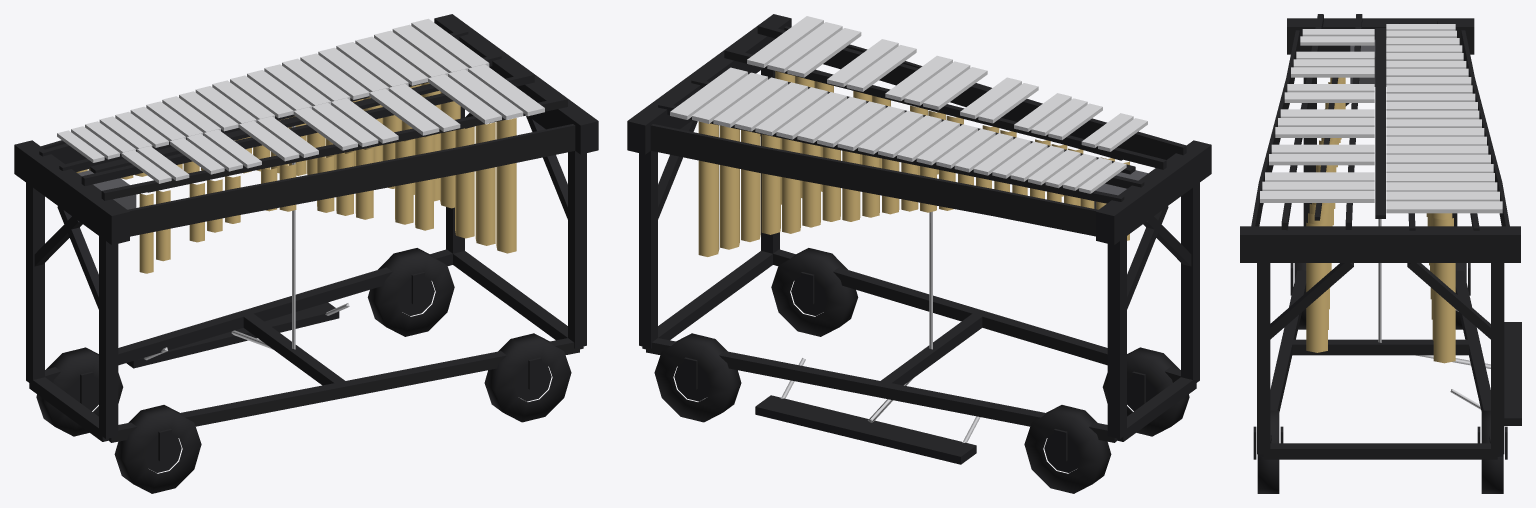
File: vibraphone-3.0-low.glb
3 renders of one model, left to right at view 1: azimuth 30°, elevation 25°; view 2: azimuth 150°, elevation 25°; view 3: azimuth 270°, elevation 25°, orthographic. The views are drawn at different scales.
Parts seen in each view (by area): view 1: frame, bars-silver, resonators-gold, artwork, metal; view 2: frame, bars-silver, resonators-gold, metal; view 3: frame, bars-silver, resonators-gold, metal, panel.
Part boxes in pixels (box(x1,y1,x2,y2)): frame: box(14, 14, 598, 493); bars-silver: box(57, 18, 544, 183); resonators-gold: box(76, 82, 516, 273); artwork: box(130, 125, 575, 236); metal: box(144, 126, 349, 360); frame: box(627, 14, 1211, 493); bars-silver: box(670, 16, 1147, 193); resonators-gold: box(698, 71, 1129, 256); metal: box(780, 211, 980, 442); frame: box(1240, 14, 1521, 493); bars-silver: box(1260, 24, 1502, 213); resonators-gold: box(1306, 77, 1455, 363); metal: box(1378, 219, 1490, 409); panel: box(1350, 40, 1386, 86).
Bounding box in the file's own units: 1.53 × 0.9719 × 0.8406.
